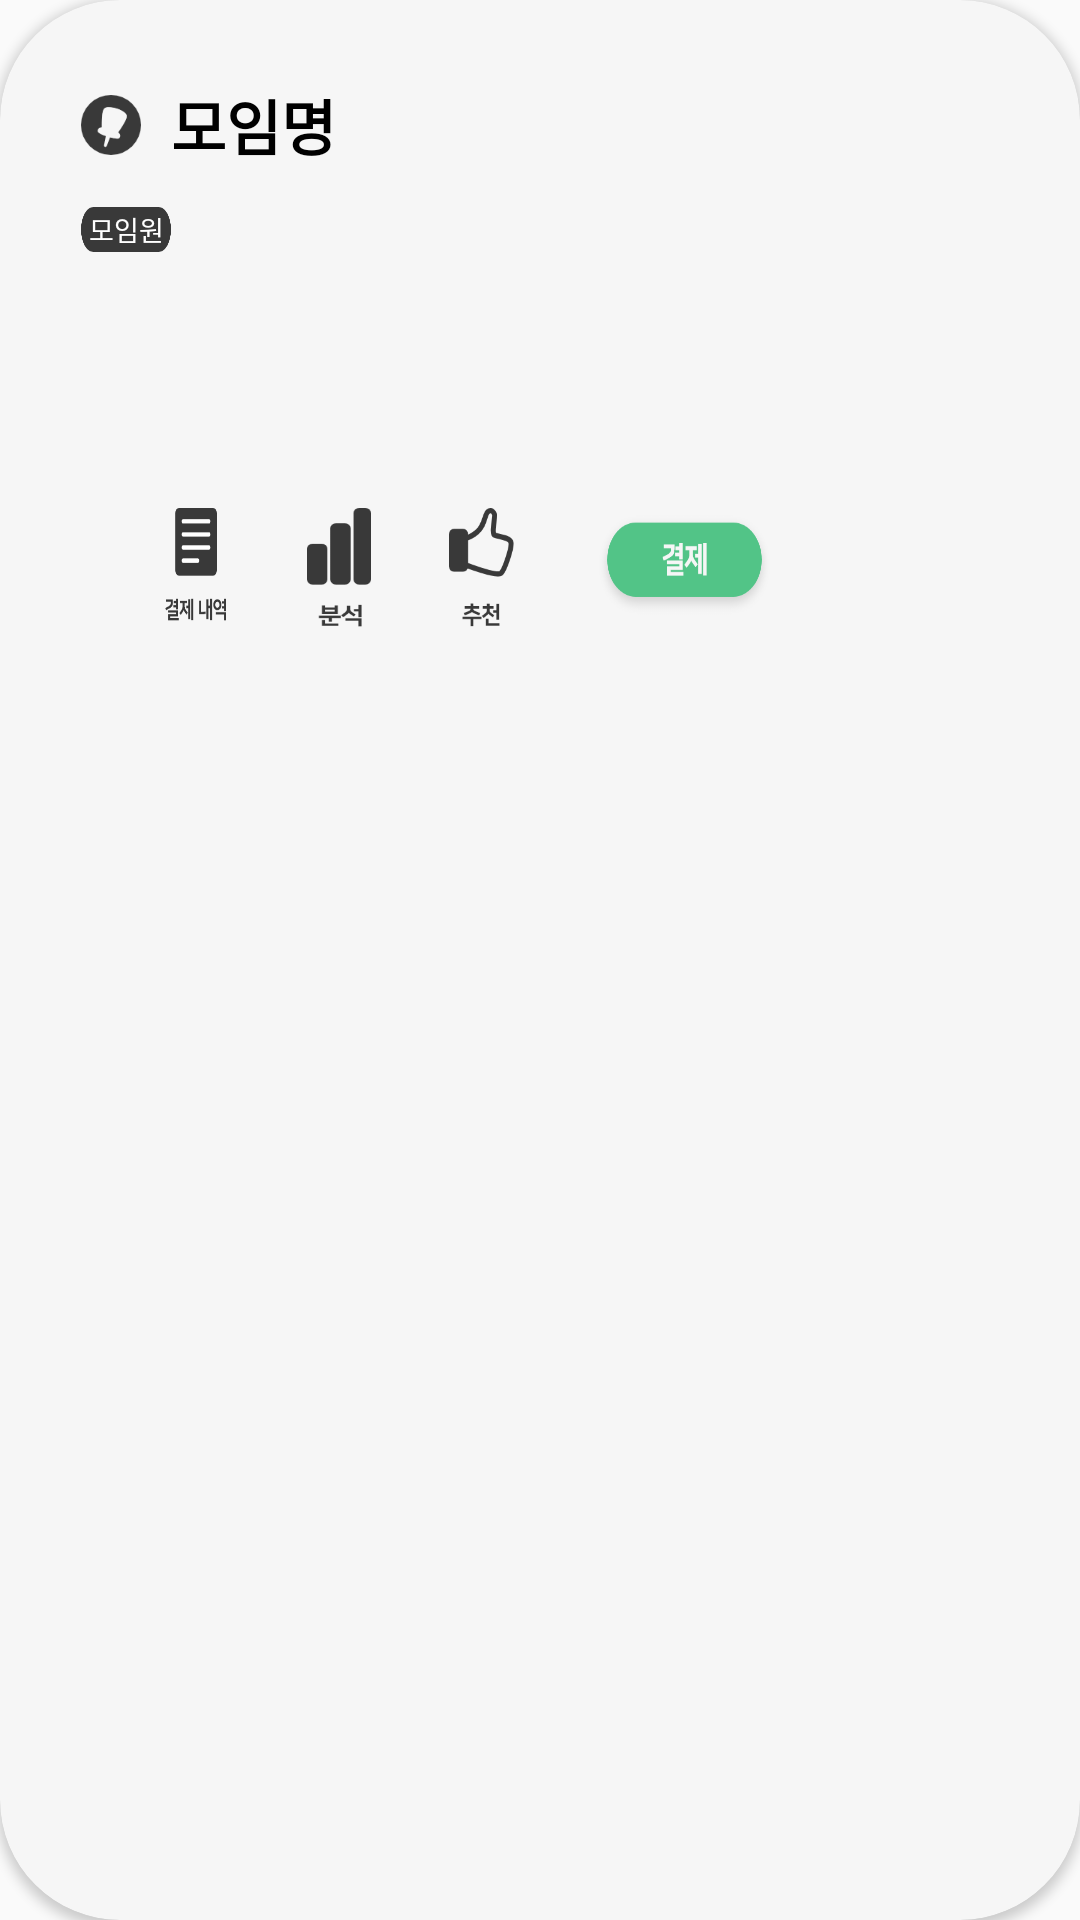

Point at icon controls on the screen. Image size 1080 x 1920, points as [x,y].
good: [481,567]
pin: [111,125]
